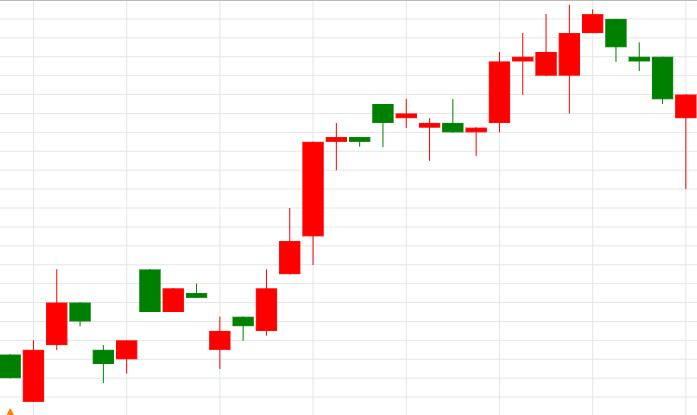hammer_rise: (582, 8, 697, 189)
three_white_soldiers_rise: (138, 141, 325, 370)
